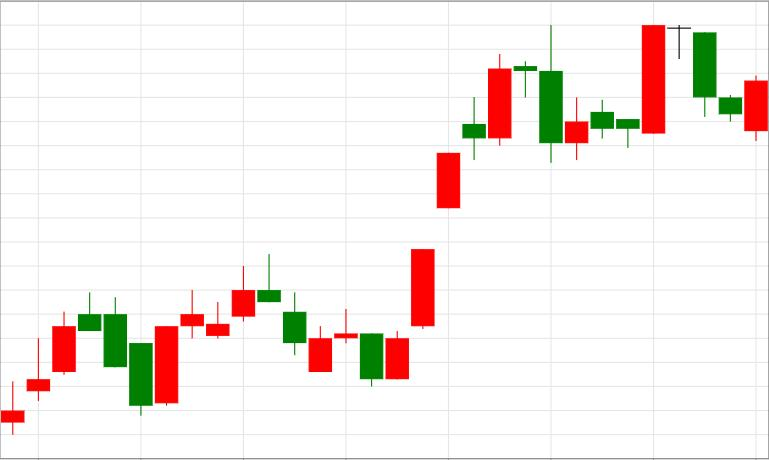evening_star_fall: (385, 26, 562, 379)
three_white_soldiers_rise: (257, 152, 459, 388)
